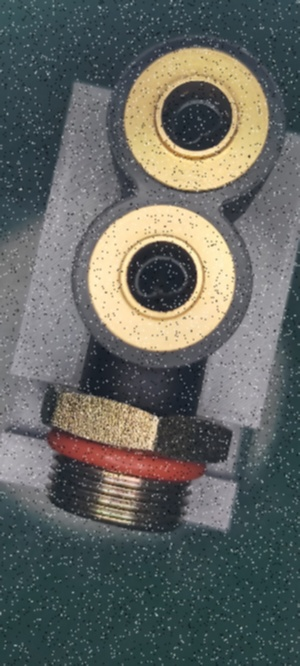joint line: (136, 374, 148, 414)
off-centered: (129, 247, 197, 311), (160, 95, 232, 151)
